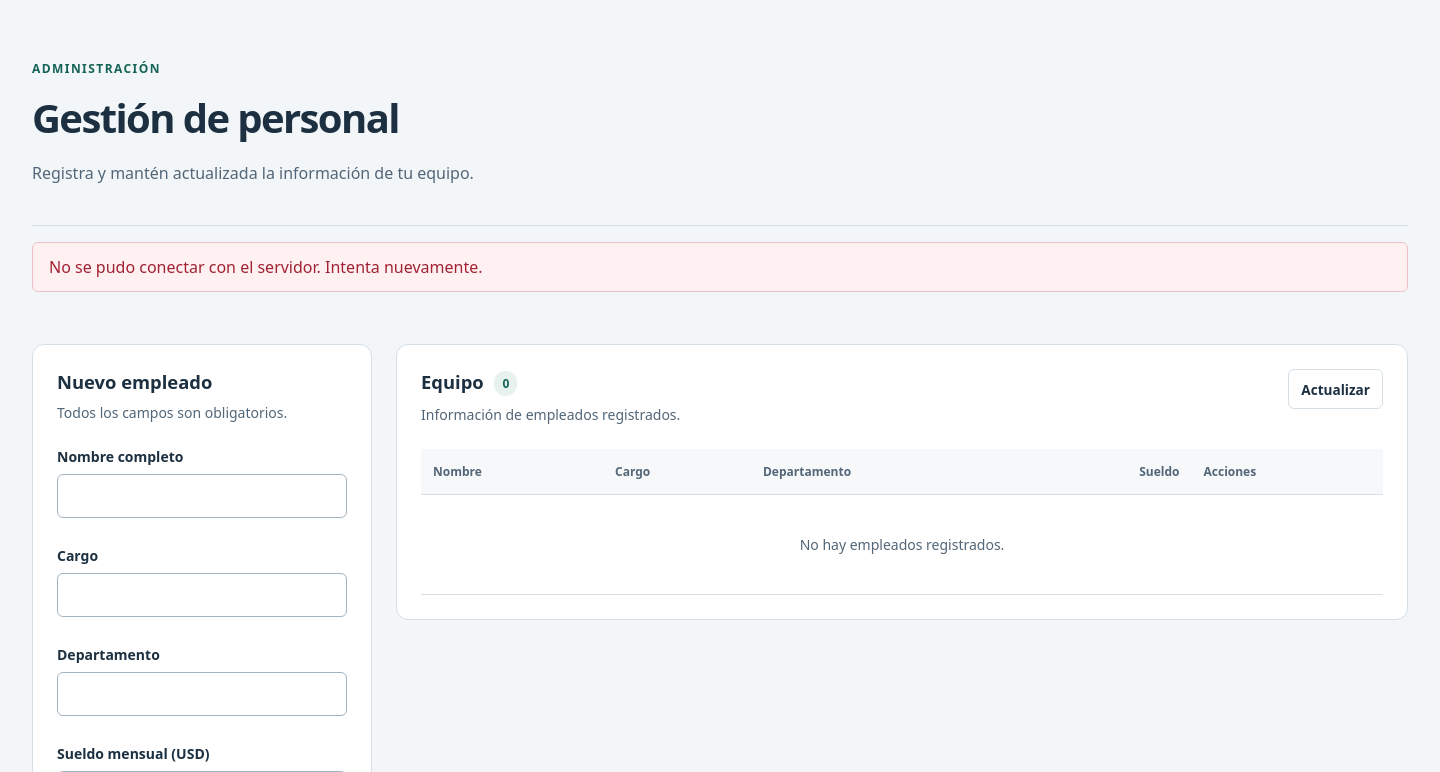
Test: Gestión de empleados: contenedor y componentes presentacionales › permite volver a cargar después de un error de conexión
The image size is (1440, 772).
Click the button "Actualizar": (1336, 389) x1=1288 y1=369 x2=1383 y2=409
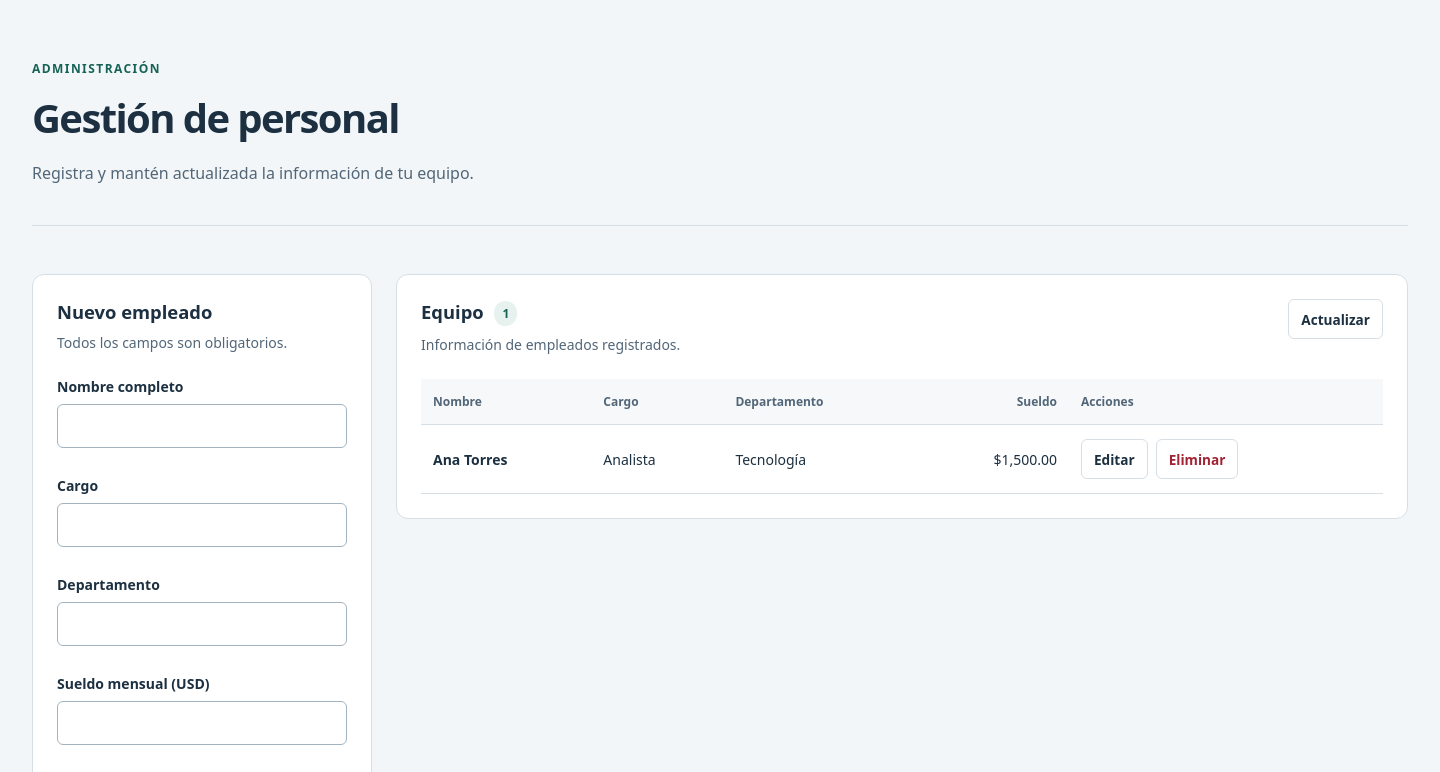
Result: the message "No se pudo conectar con el servidor. Intenta nuevamente." is gone
